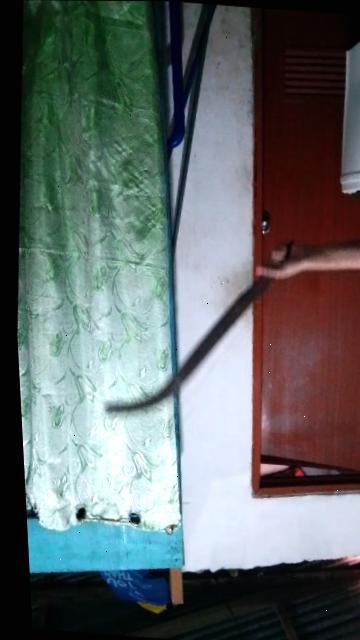long knife: (64, 213, 314, 438)
